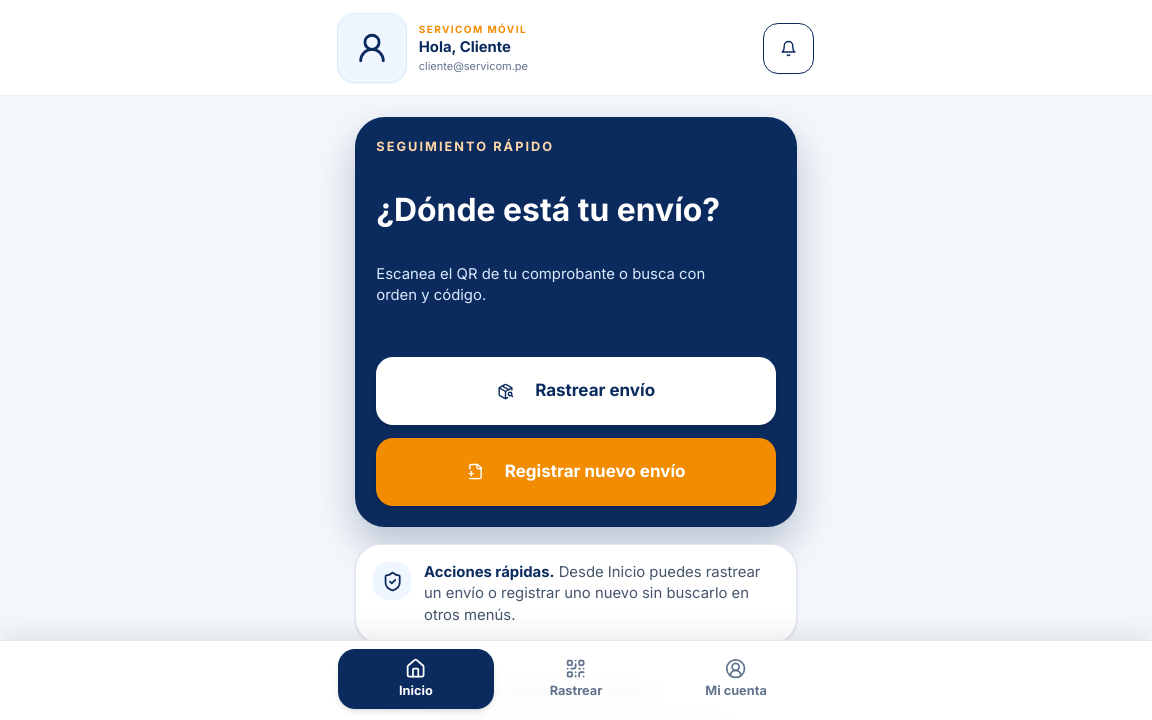
Test: MobileAppPage › muestra en Inicio las acciones grandes de Rastrear y Registrar
Click the button "Rastrear envío": (576, 391) left=376, top=357, right=776, bottom=425
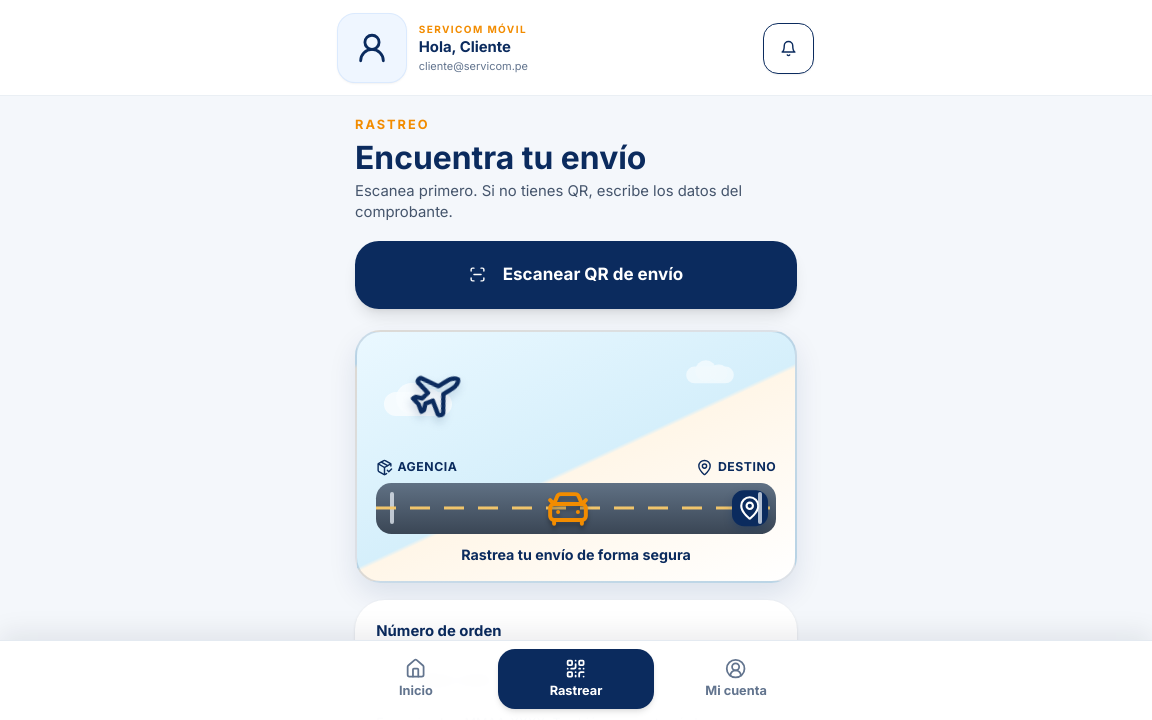
Expected: the button "Escanear QR de envío" is shown, left=355, top=241, right=797, bottom=309
